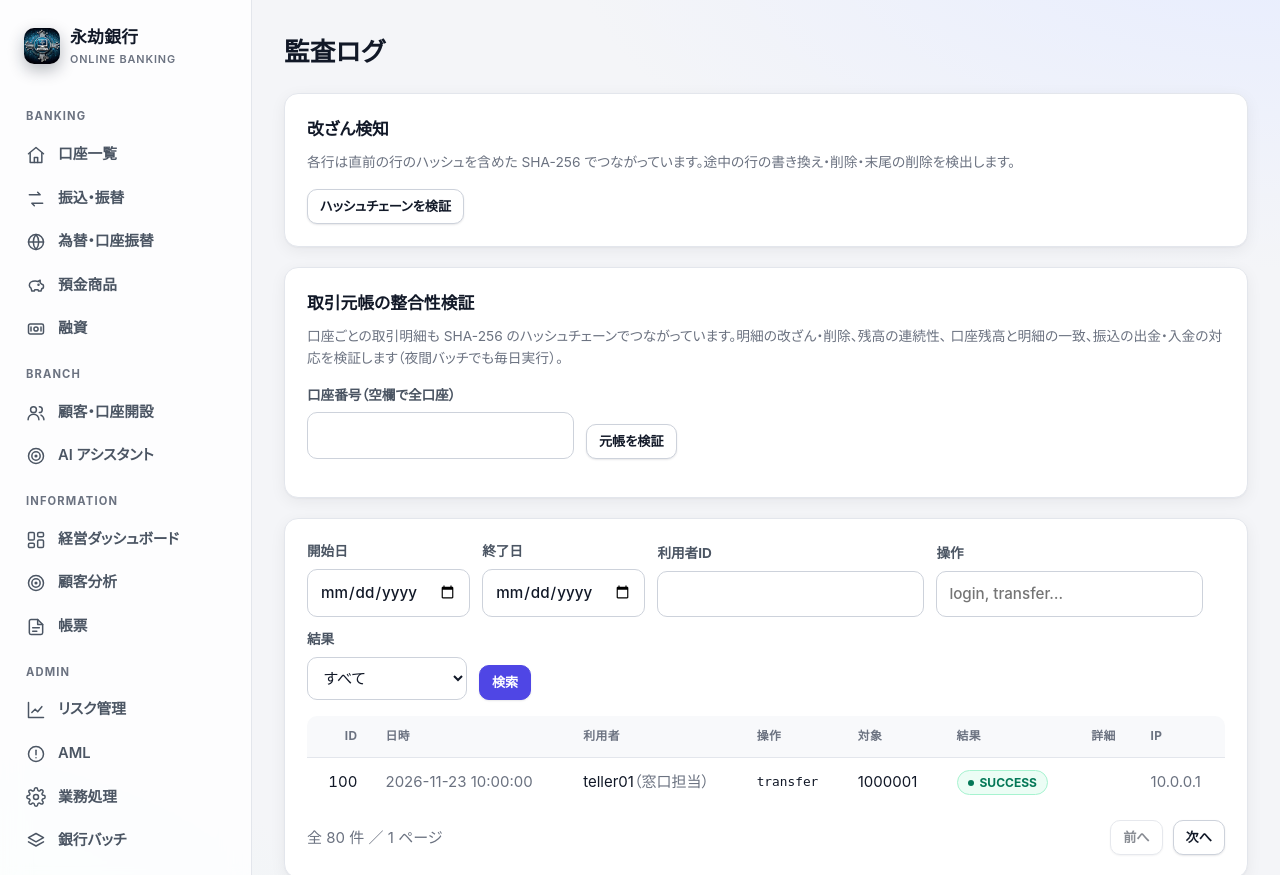
Test: AuditPage › 元帳検証：全口座正常・エラー表示
Click the button "元帳を検証".
click(631, 441)  # box 586,424 -> 676,459
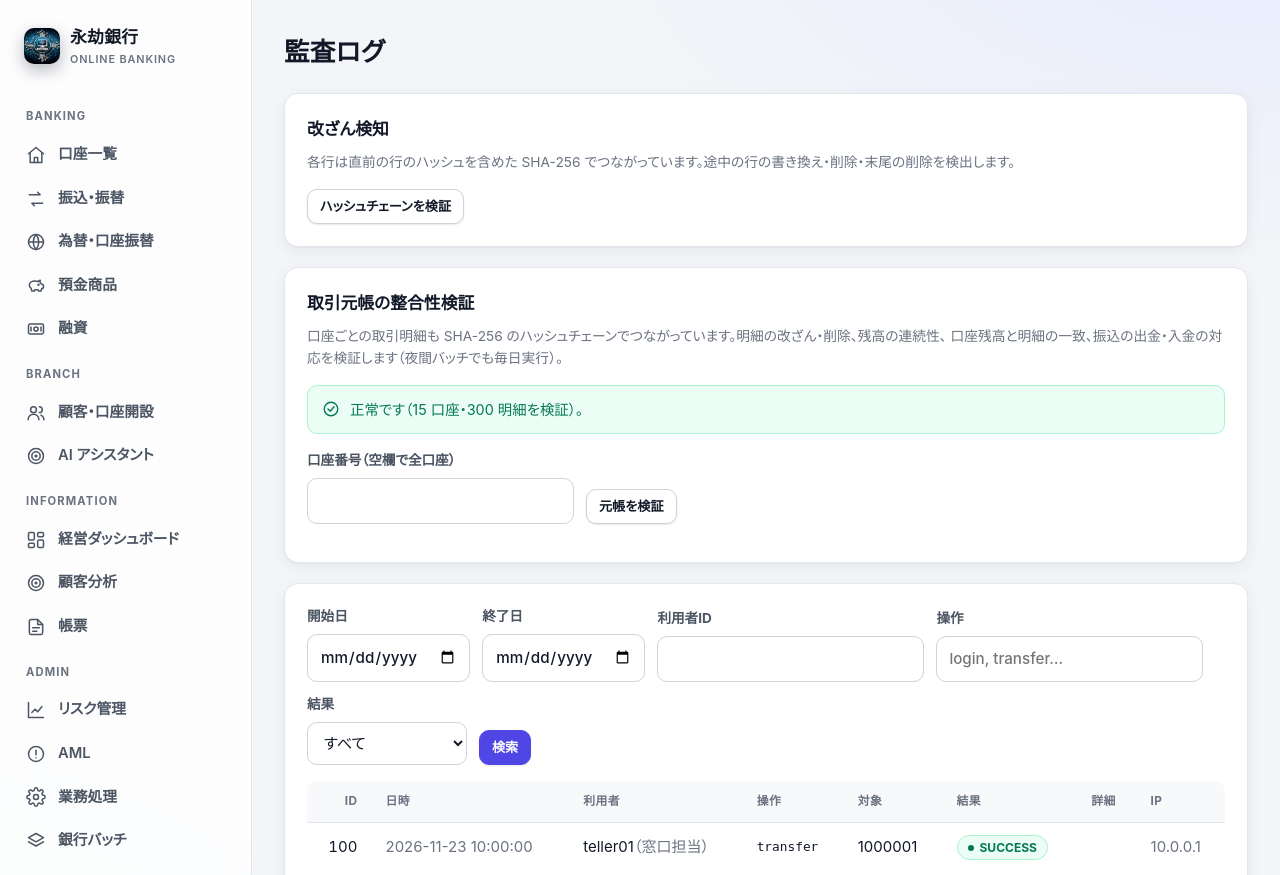
expect the text "正常です（15 口座・300 明細を検証）。" is shown: met, box 350,398 -> 583,421
Click the button "元帳を検証".
click(631, 506)  # box 586,489 -> 676,524
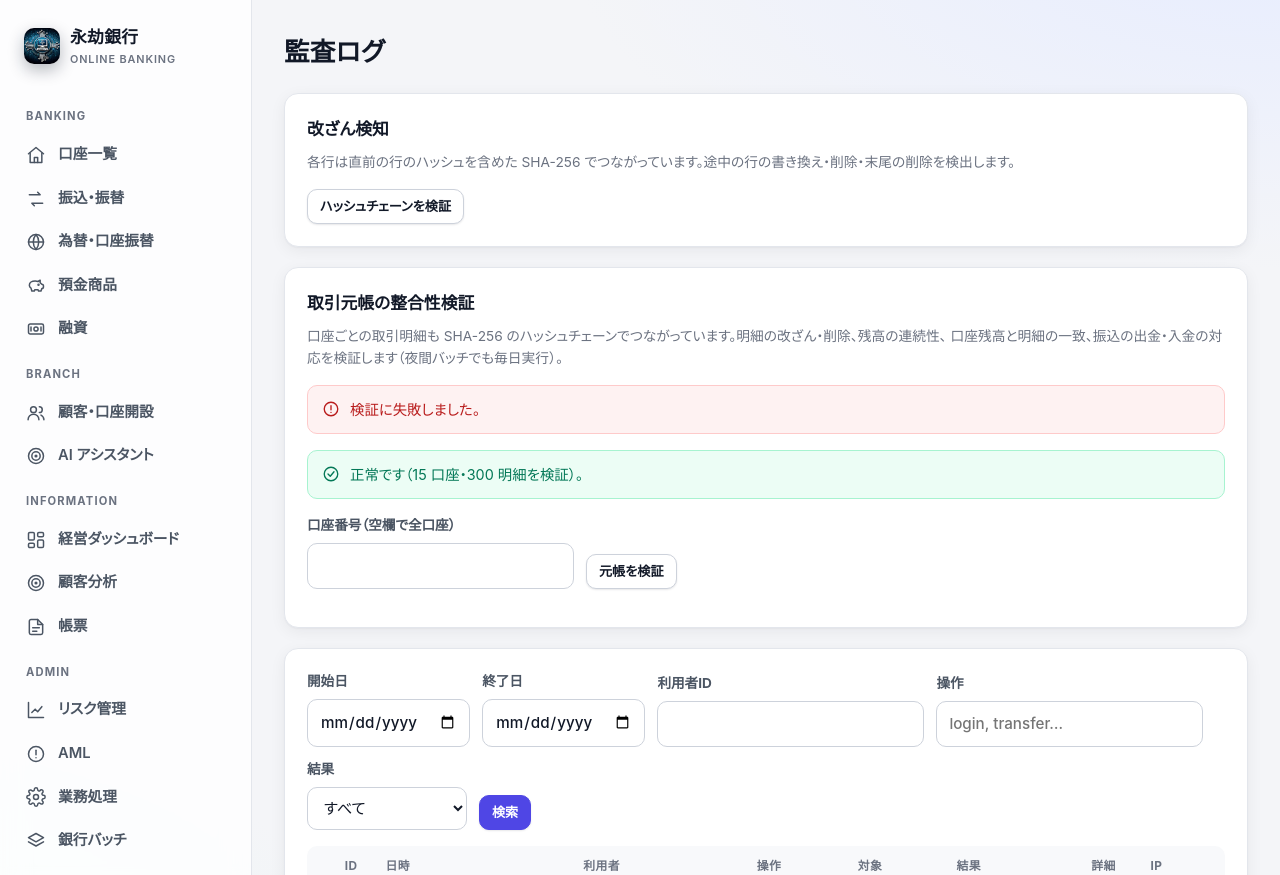
expect the text "検証に失敗しました。" is shown: met, box 350,398 -> 480,421
